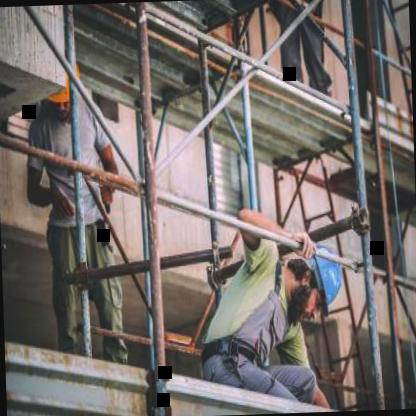helmet: (282, 244, 346, 330), (40, 54, 84, 121)
